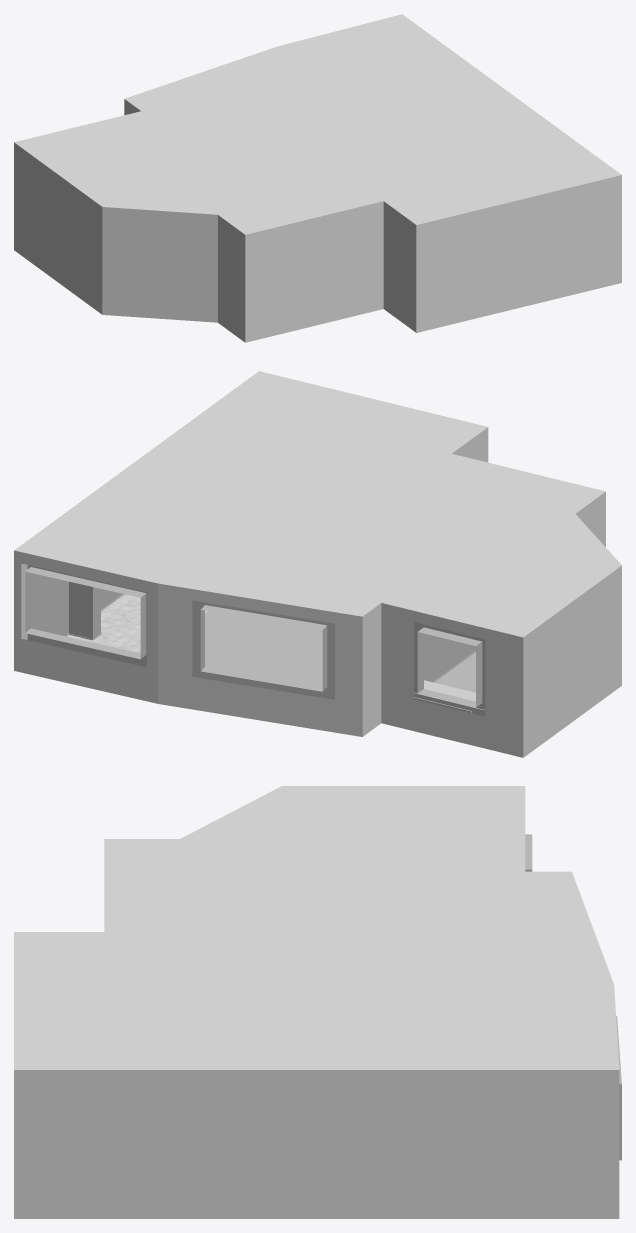
The picture shows the model from 3 angles, top to bottom: view 1: azimuth 30°, elevation 25°; view 2: azimuth 150°, elevation 25°; view 3: azimuth 270°, elevation 25°; orthographic projection. The views are drawn at different scales.
Visible parts, largest first — view 1: light_cover; view 2: light_cover, walls, floor, wall_white, floor_kitchen, floor_bedroom, table; view 3: light_cover, wall_white.
Part boxes in pixels (<box>): light_cover: <box>14,14,621,342</box>; light_cover: <box>14,371,621,757</box>; walls: <box>27,565,485,716</box>; floor: <box>205,611,322,685</box>; wall_white: <box>25,567,482,707</box>; floor_kitchen: <box>67,594,208,653</box>; floor_bedroom: <box>434,652,475,692</box>; table: <box>414,680,484,712</box>; light_cover: <box>14,786,619,1218</box>; wall_white: <box>525,834,621,1160</box>.
Size of the model in its own units: 1202 by 294 by 1087.
